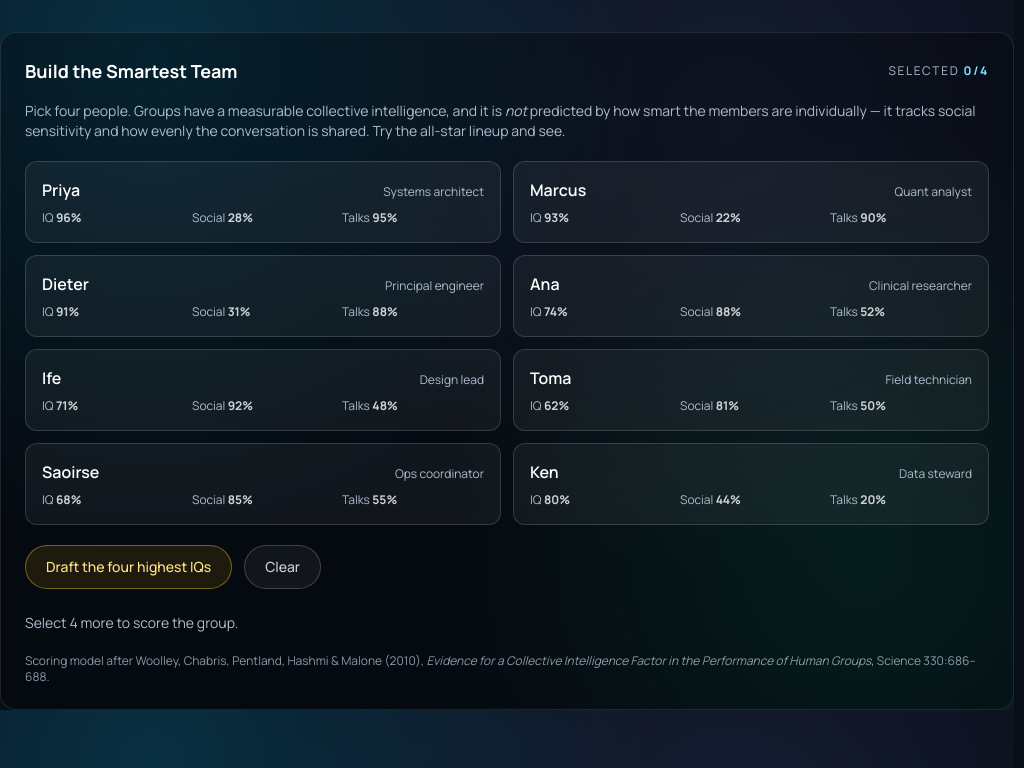
Scenario: CollectiveIntelligenceGame › selecting candidates one at a time updates the count and toggles pressed state
Click the button "Priya Systems architect IQ 96% Social 28% Talks 95%" at (61, 190), box 25,161 -> 501,243
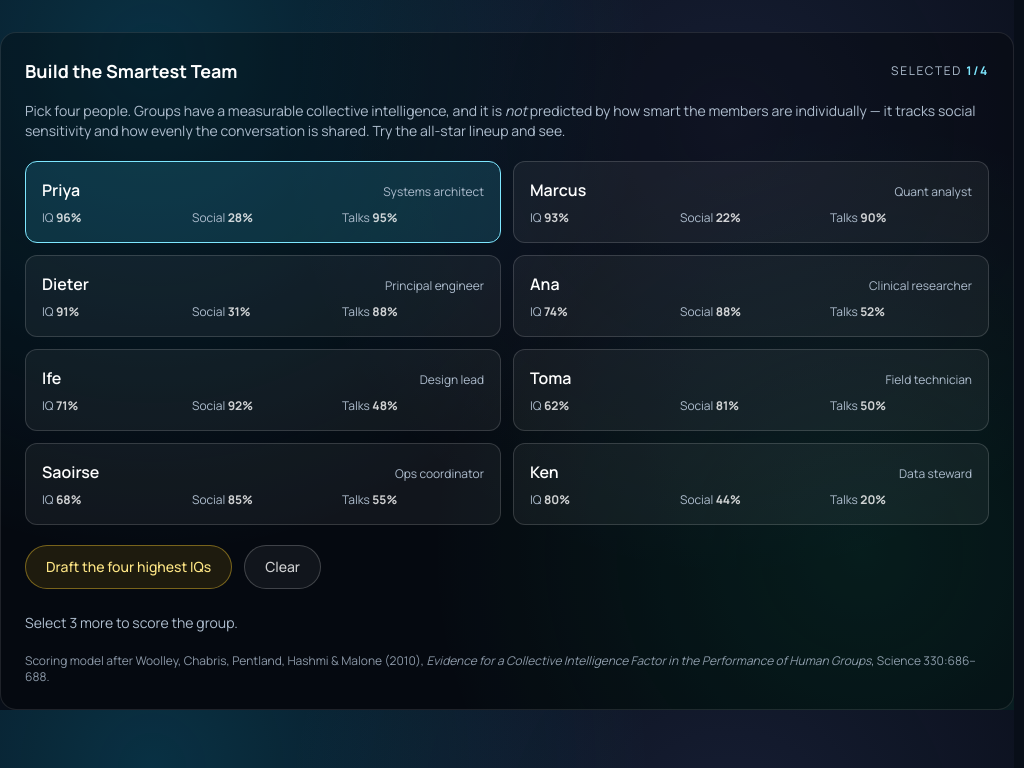
Expected: the text with test id "ci-count" reads "1/4", 966,62 -> 989,79
Click the button "Priya Systems architect IQ 96% Social 28% Talks 95%" at (61, 190), box 25,161 -> 501,243
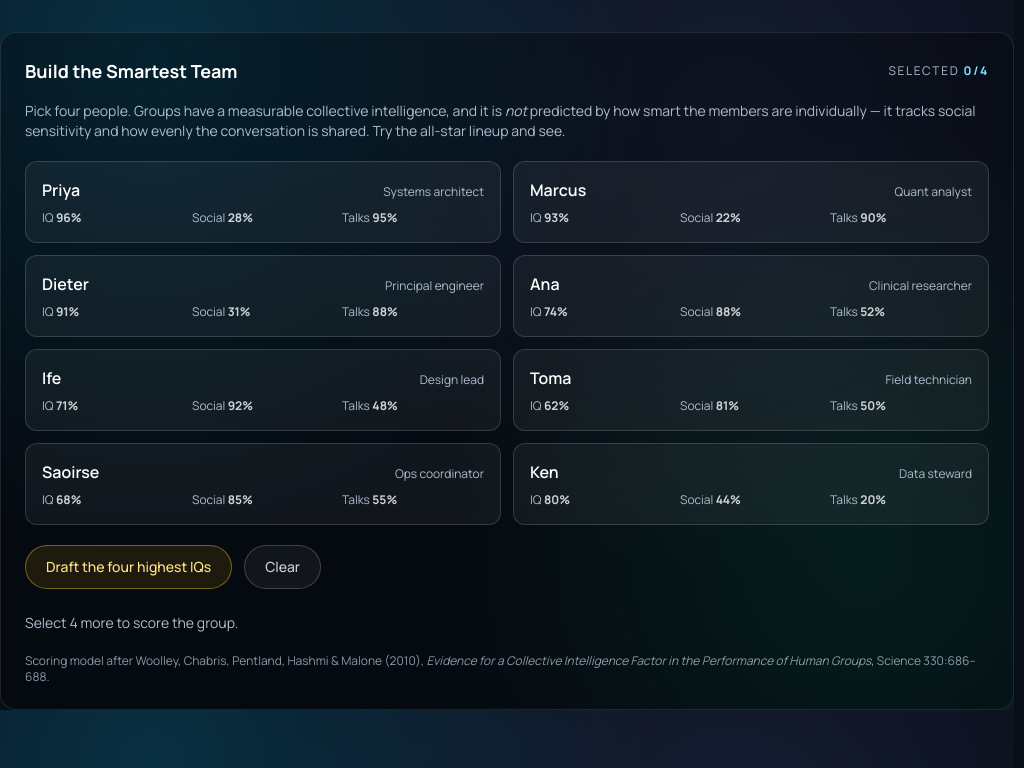
Expected: the text with test id "ci-count" reads "0/4", 964,62 -> 989,79
